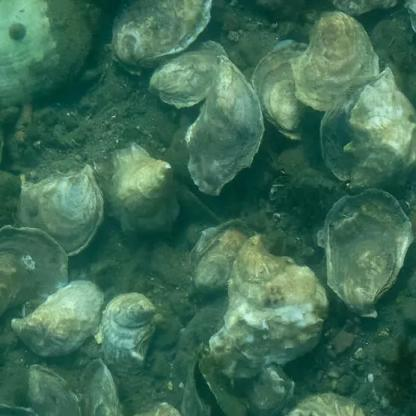Oyster- Indeterminate: (15, 166, 105, 257)
Oyster-Closed: (210, 234, 329, 380), (321, 189, 414, 317), (185, 56, 264, 195), (0, 0, 94, 105), (291, 10, 380, 111), (344, 69, 416, 192), (94, 147, 181, 235), (11, 280, 107, 357), (321, 69, 385, 181), (112, 0, 214, 68), (252, 40, 315, 141), (0, 226, 69, 317), (149, 40, 228, 108), (191, 220, 255, 295), (102, 292, 155, 374), (26, 364, 82, 416), (79, 360, 126, 416), (244, 363, 294, 411), (115, 297, 154, 326), (331, 0, 397, 16)
Oyster-Open: (186, 345, 250, 416)
